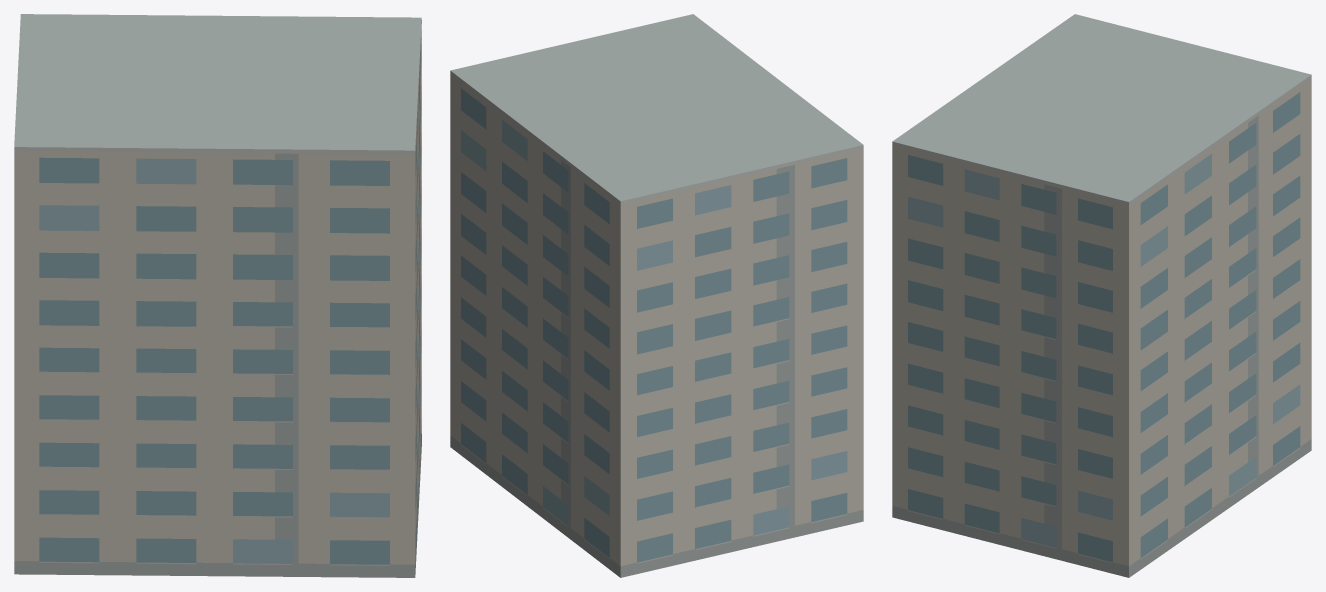
File: residential-60f82e5d-7aec-4dc6-a9d5-c1b264abb89a.glb
The picture shows the model from 3 angles, left to right: view 1: azimuth 30°, elevation 25°; view 2: azimuth 150°, elevation 25°; view 3: azimuth 270°, elevation 25°; orthographic projection. The views are drawn at different scales.
Parts seen in each view (by area): view 1: residential-60f82e5d-7aec-4dc6-a9d5-c1b264abb89a.tmp; view 2: residential-60f82e5d-7aec-4dc6-a9d5-c1b264abb89a.tmp; view 3: residential-60f82e5d-7aec-4dc6-a9d5-c1b264abb89a.tmp.
Boxes of the visible parts, left/top/right/bottom form: residential-60f82e5d-7aec-4dc6-a9d5-c1b264abb89a.tmp: left=14, top=14, right=421, bottom=577; residential-60f82e5d-7aec-4dc6-a9d5-c1b264abb89a.tmp: left=450, top=14, right=863, bottom=577; residential-60f82e5d-7aec-4dc6-a9d5-c1b264abb89a.tmp: left=892, top=14, right=1311, bottom=577.
Bounding box in the file's own units: 25.77 × 24 × 24.29.
